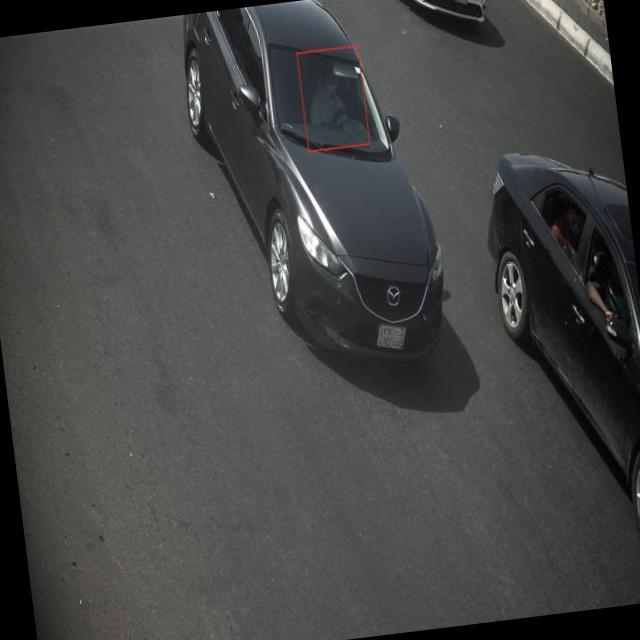person_without_seatbelt: (298, 56, 369, 148)
